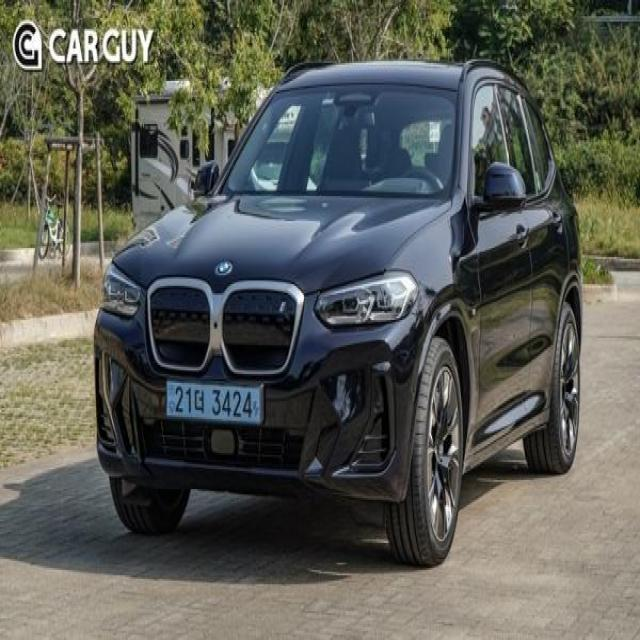EV_plate: (169, 379, 264, 432)
car: (92, 48, 588, 569)
